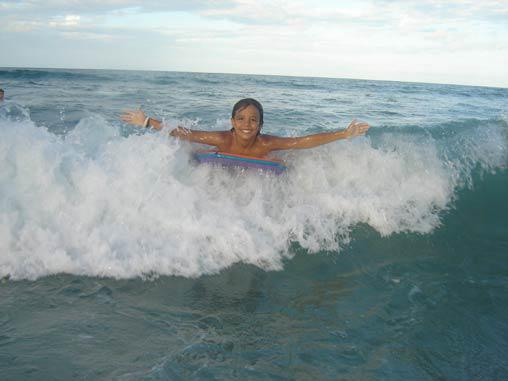human: (120, 98, 370, 168)
